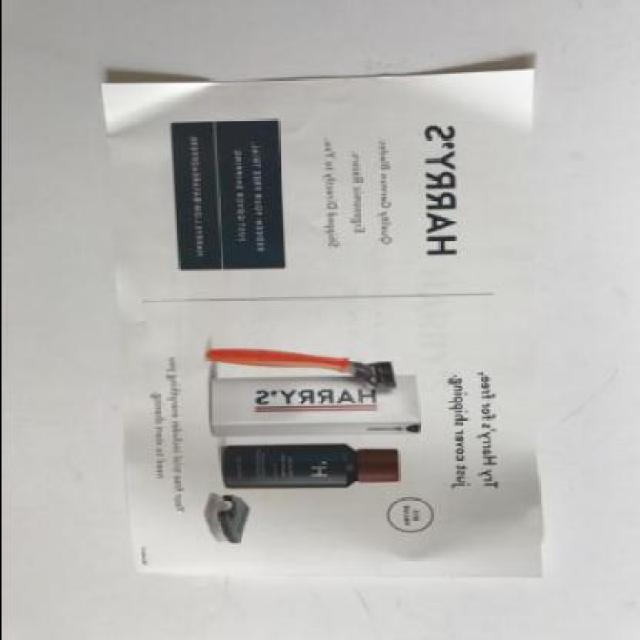PAPER: (100, 71, 545, 578)
